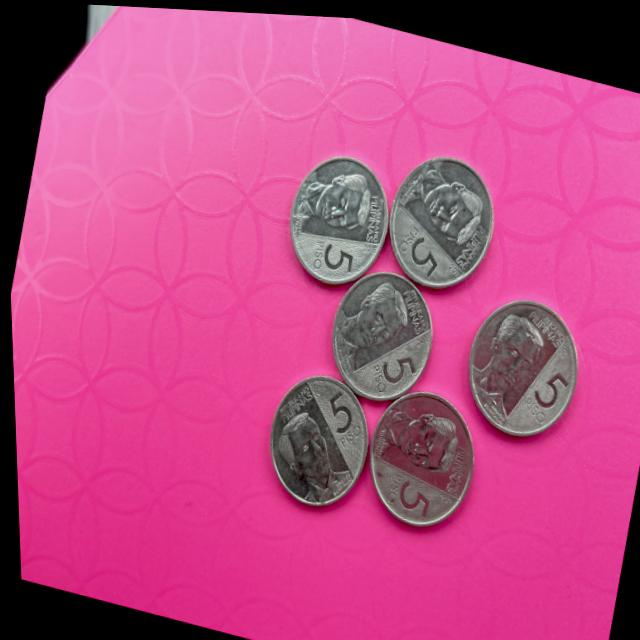5_New_Front: (504, 355, 574, 435), (359, 333, 429, 402), (384, 215, 446, 278), (298, 228, 364, 284), (303, 382, 355, 451), (376, 467, 431, 513)
